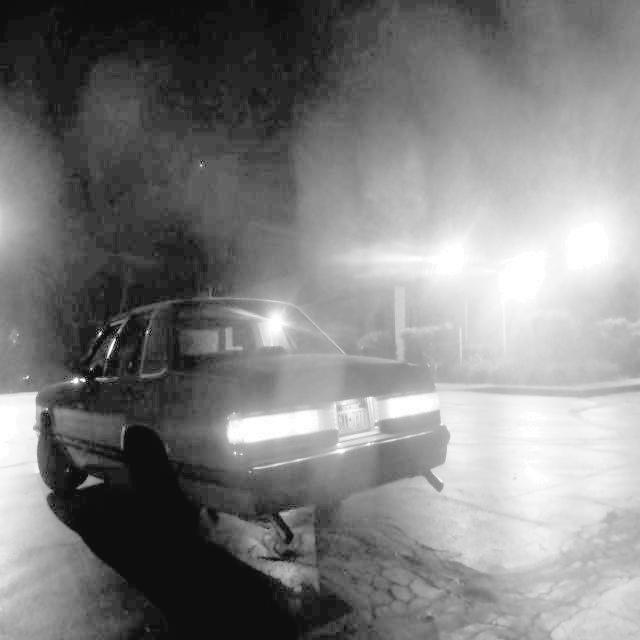Car: (36, 295, 451, 522)
